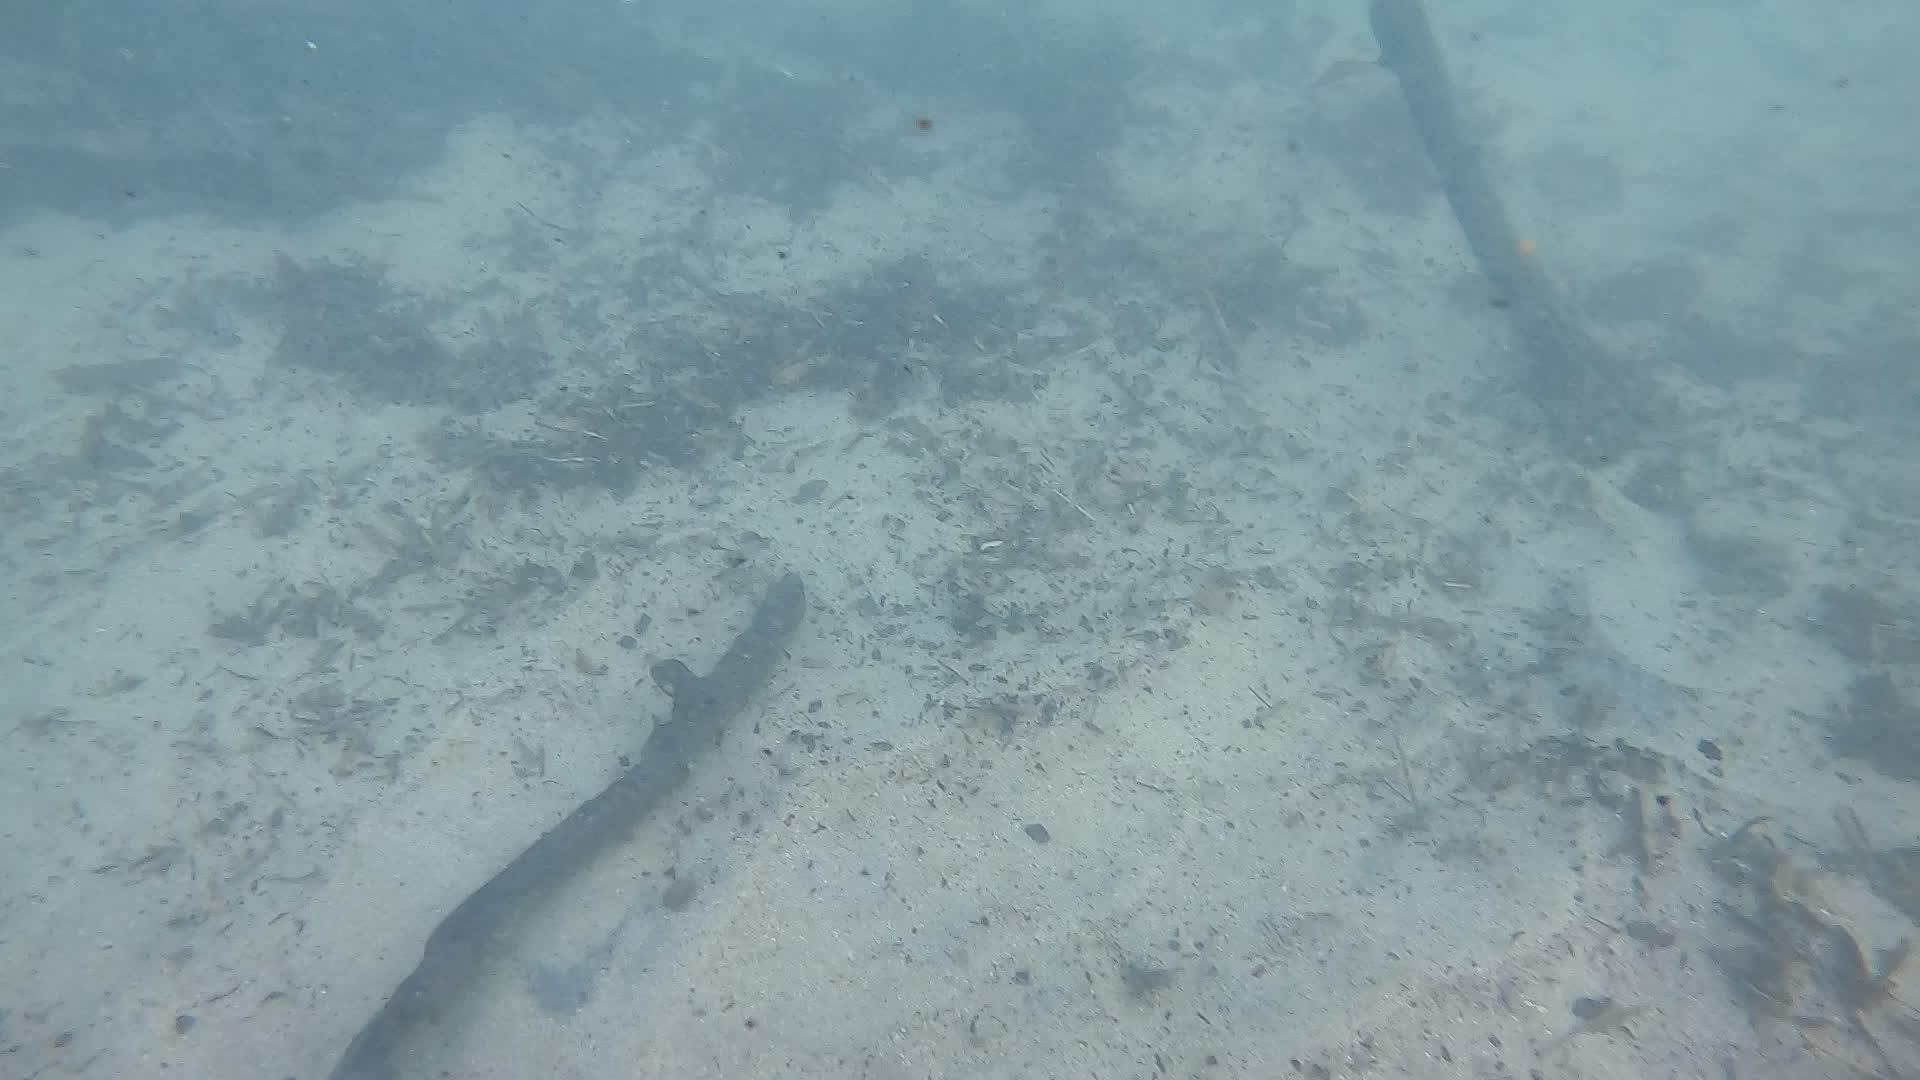wood: (294, 554, 789, 1077), (1366, 0, 1647, 454)
